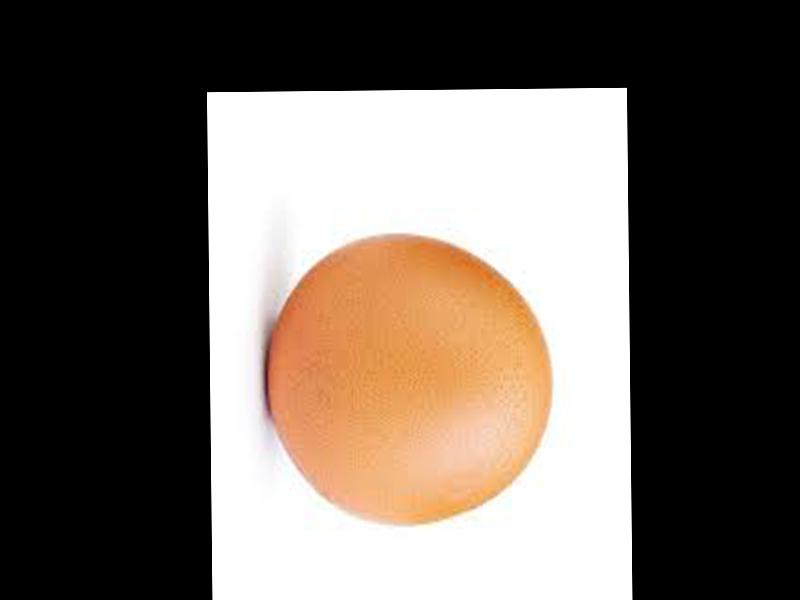Eggs: (267, 233, 549, 525)
